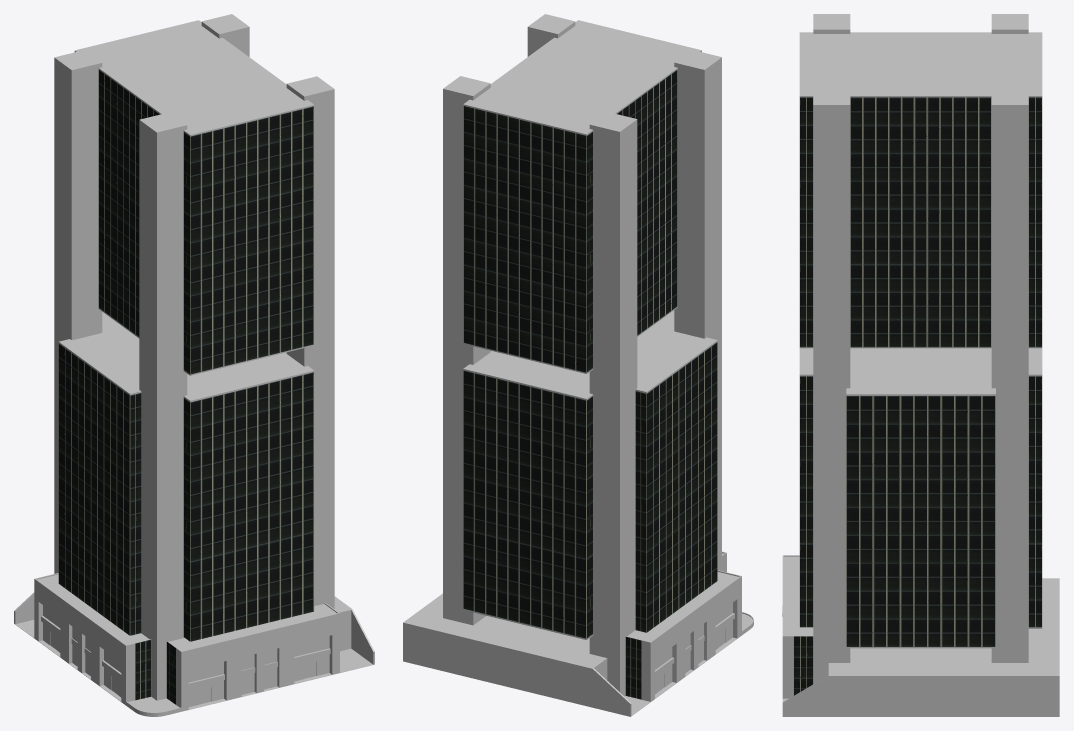
The picture shows the model from 3 angles, left to right: view 1: azimuth 30°, elevation 25°; view 2: azimuth 150°, elevation 25°; view 3: azimuth 270°, elevation 25°; orthographic projection. The views are drawn at different scales.
Parts seen in each view (by area): view 1: EC-019; view 2: EC-019; view 3: EC-019.
Part boxes in pixels (x1,y1,x2,y2): EC-019: (14,14,374,716); EC-019: (403,14,753,716); EC-019: (782,14,1059,716).
Size of what is drawn, in the model's own units: 36 by 85.87 by 36.01.
